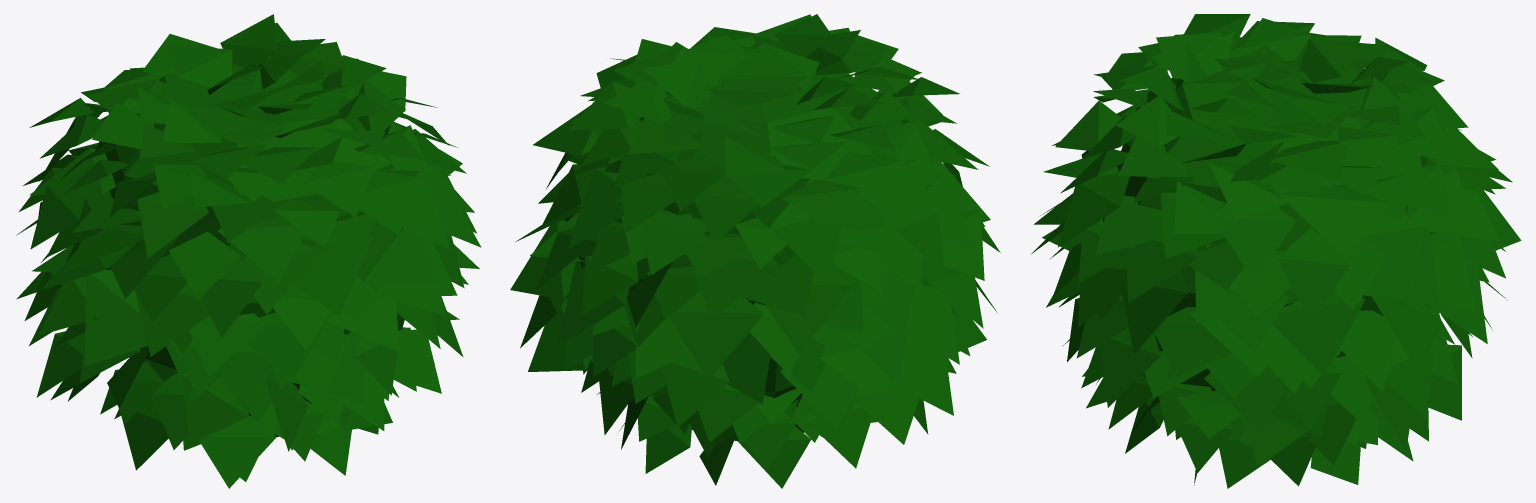
File: Bush.fbx
3 views of the same model, side by side, from view 1: azimuth 30°, elevation 25°; view 2: azimuth 150°, elevation 25°; view 3: azimuth 270°, elevation 25° (orthographic). The views are drawn at different scales.
Parts seen in each view (by area): view 1: SM_ENV_FOLIAGE_Bush01.mo; view 2: SM_ENV_FOLIAGE_Bush01.mo; view 3: SM_ENV_FOLIAGE_Bush01.mo.
Part boxes in pixels (x1,y1,x2,y2): SM_ENV_FOLIAGE_Bush01.mo: (16, 14, 481, 488); SM_ENV_FOLIAGE_Bush01.mo: (510, 14, 1000, 488); SM_ENV_FOLIAGE_Bush01.mo: (1030, 14, 1521, 488).
Size of the model in its own units: 65.43 by 55.3 by 63.29.
